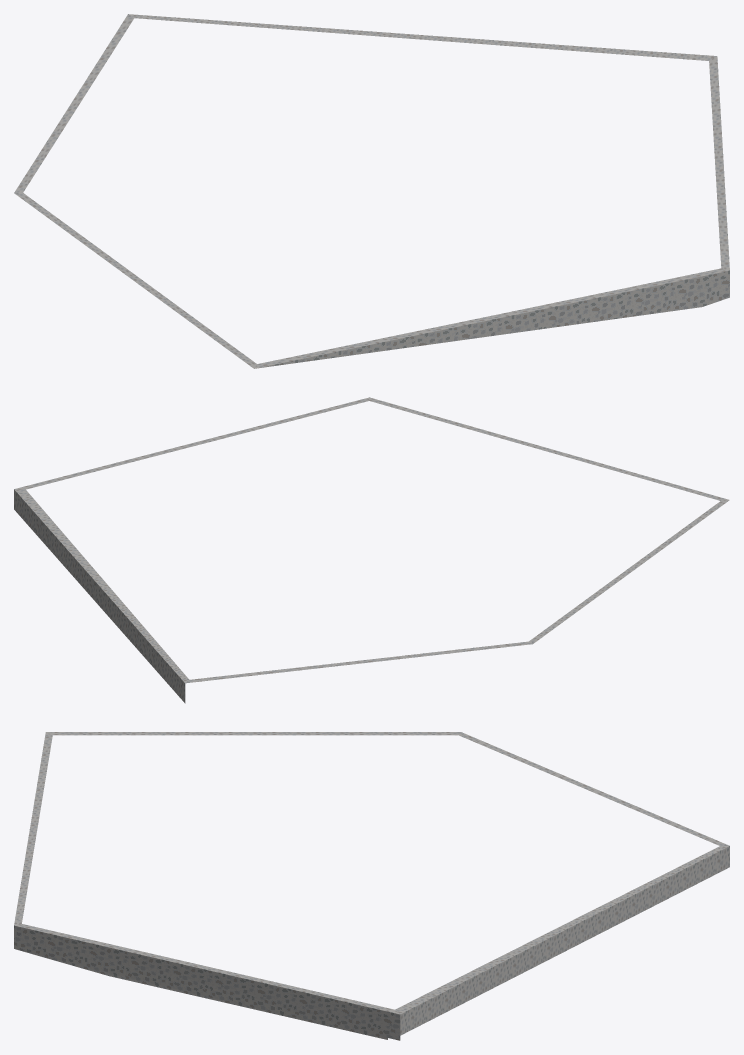
The model's file is kd_stage_13612f_5_66.glb.
3 views of the same model, one above another, from view 1: azimuth 30°, elevation 25°; view 2: azimuth 150°, elevation 25°; view 3: azimuth 270°, elevation 25° (orthographic). The views are drawn at different scales.
Parts seen in each view (by area): view 1: kd_stage_13612f_5_66; view 2: kd_stage_13612f_5_66; view 3: kd_stage_13612f_5_66.
Part boxes in pixels (left/top/right/bottom): kd_stage_13612f_5_66: left=14, top=14, right=729, bottom=368; kd_stage_13612f_5_66: left=14, top=397, right=729, bottom=703; kd_stage_13612f_5_66: left=14, top=732, right=729, bottom=1040.
Bounding box in the file's own units: 4.26 × 0.2001 × 4.56.
Materials: 1 (1 with a texture image).
